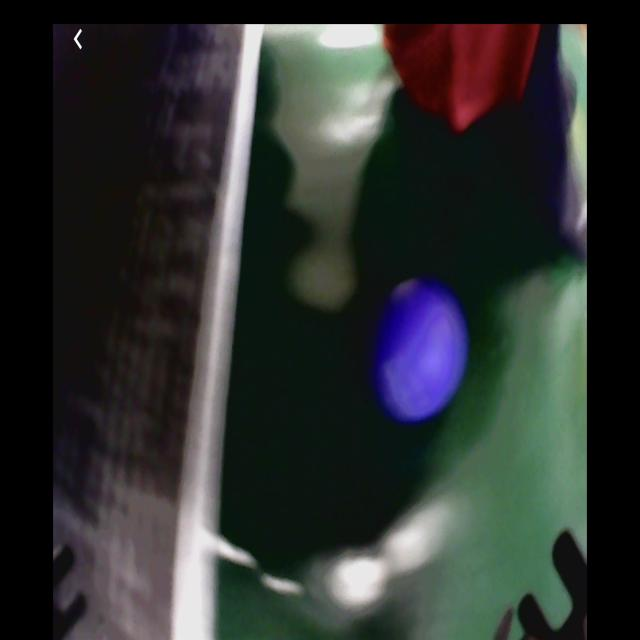ball: (375, 276, 469, 425)
